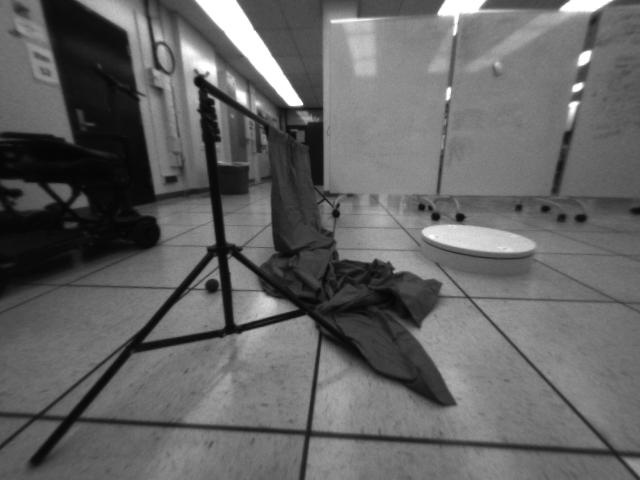dogtoy: (202, 275, 221, 294)
